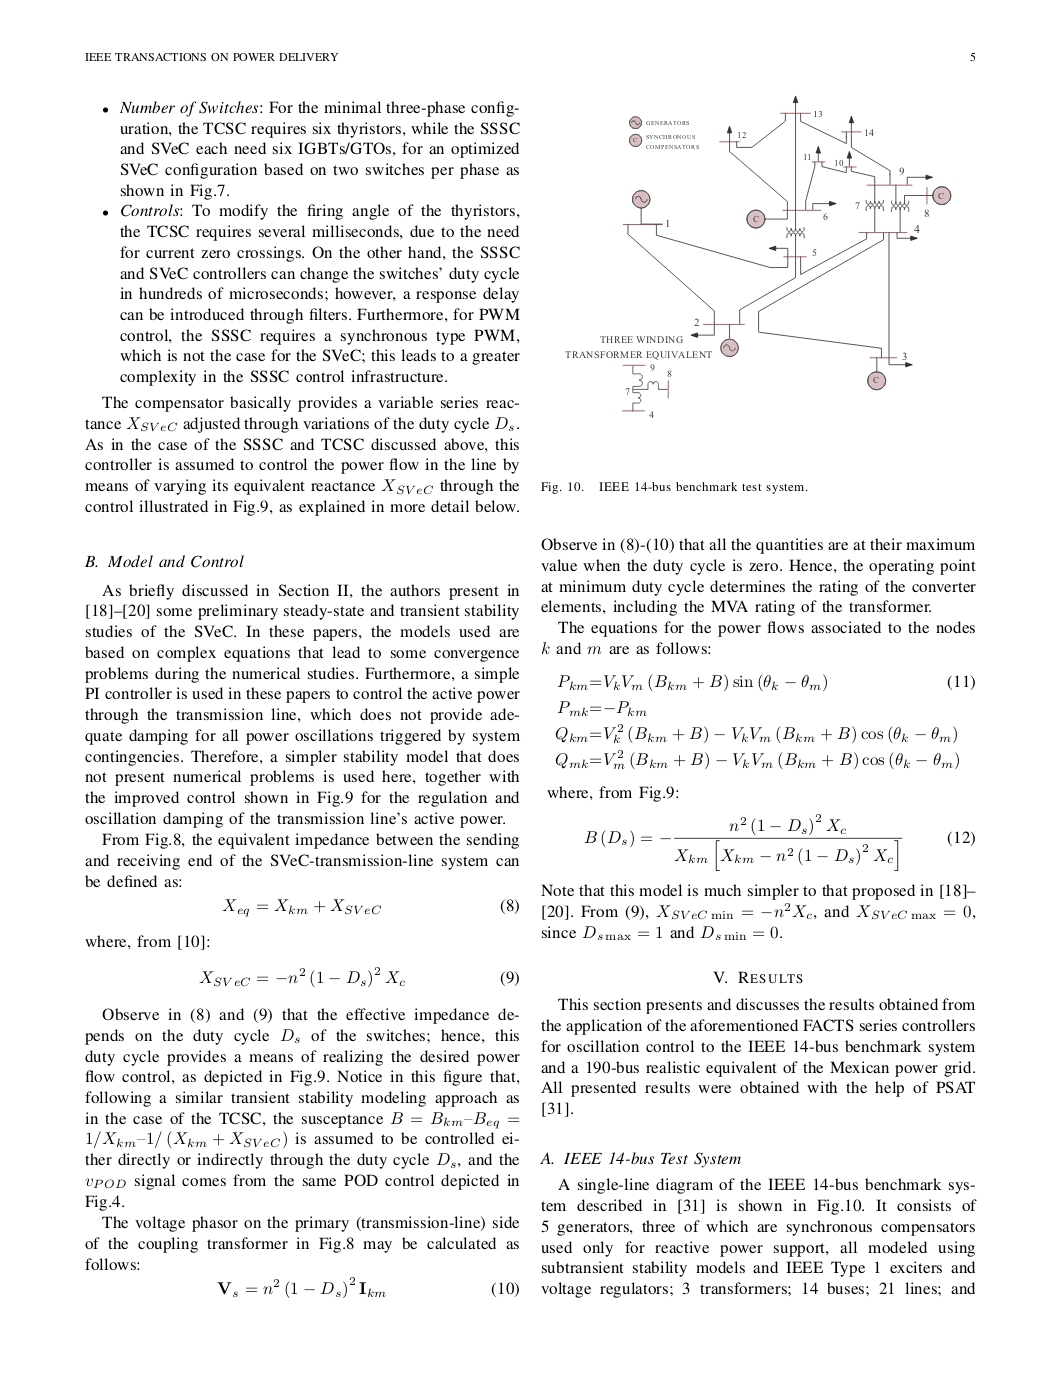figure: (565, 94, 951, 418)
formula: (584, 814, 974, 871), (555, 722, 956, 744), (555, 749, 958, 770), (557, 673, 974, 692), (199, 966, 518, 989), (217, 1276, 518, 1299), (222, 898, 518, 917), (557, 700, 646, 715)
